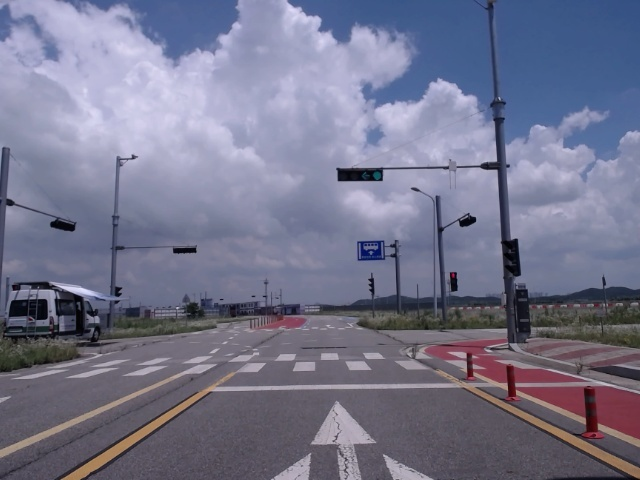all_green_4: (338, 168, 385, 179)
